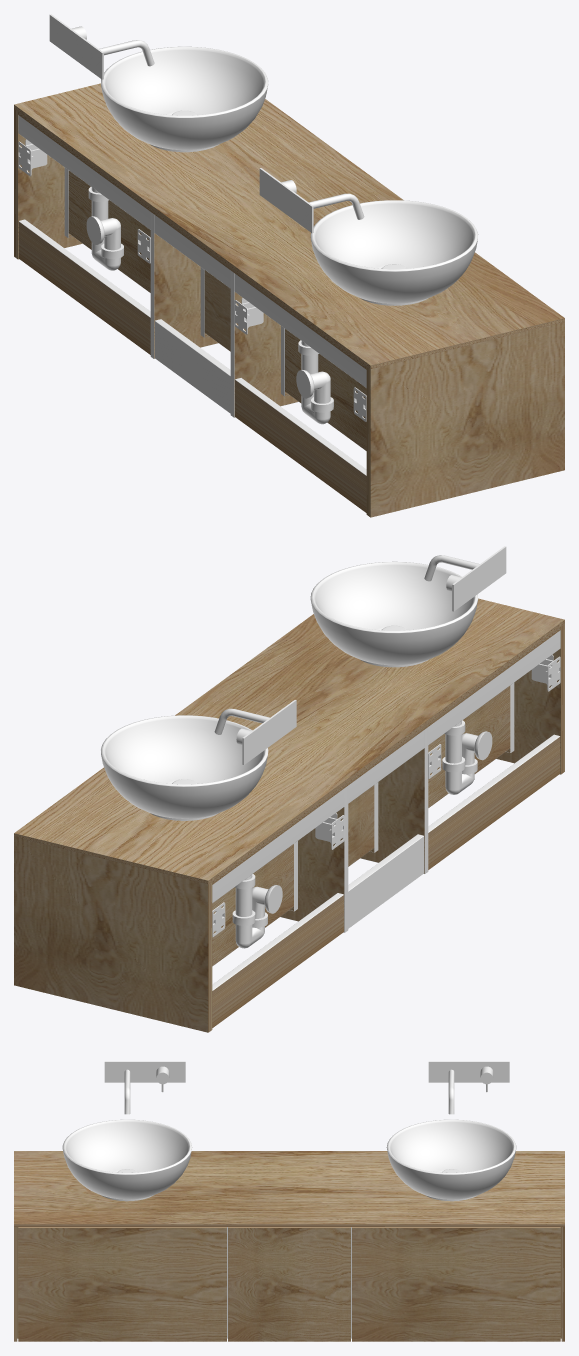
The model's file is domoss574_3z_thin_v1.glb.
The picture shows the model from 3 angles, top to bottom: view 1: azimuth 30°, elevation 25°; view 2: azimuth 150°, elevation 25°; view 3: azimuth 270°, elevation 25°; orthographic projection. The views are drawn at different scales.
Visible parts, largest first — view 1: Object_3, Object_4, Object_6, Object_8, Object_2, Object_5, Object_7; view 2: Object_3, Object_4, Object_6, Object_8, Object_2, Object_5, Object_7; view 3: Object_3, Object_4, Object_6.
Boxes of the visible parts, x1,y1,x2,y2 form: Object_3: (14, 83, 564, 517); Object_4: (100, 46, 478, 305); Object_6: (18, 14, 406, 421); Object_8: (18, 115, 366, 387); Object_2: (19, 167, 366, 475); Object_5: (86, 187, 333, 424); Object_7: (155, 321, 230, 413); Object_3: (14, 598, 564, 1032); Object_4: (101, 561, 478, 820); Object_6: (172, 546, 560, 937); Object_8: (212, 630, 560, 902); Object_2: (212, 683, 559, 990); Object_5: (232, 720, 492, 948); Object_7: (348, 836, 423, 928); Object_3: (14, 1151, 564, 1341); Object_4: (62, 1119, 516, 1201); Object_6: (104, 1061, 509, 1172).
Size of the model in its own units: 53.5 by 70.5 by 170.
Materials: 7 (1 with a texture image).
